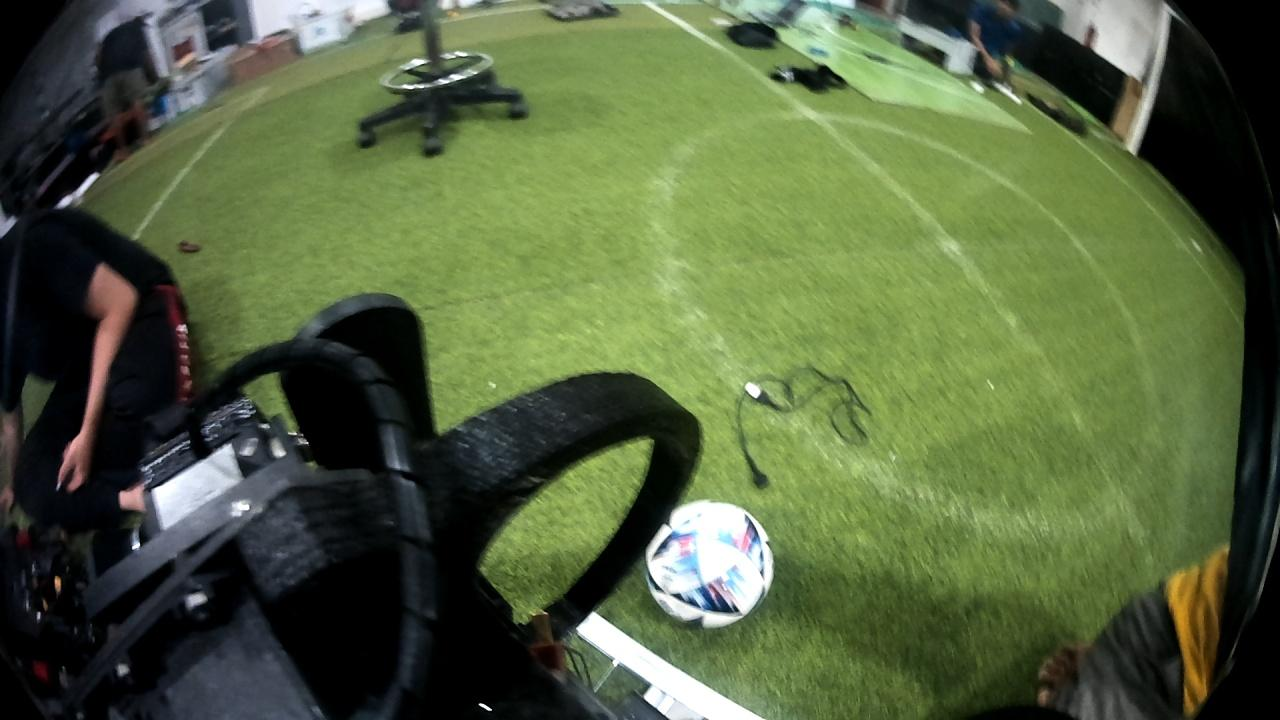ball: (640, 495, 778, 634)
